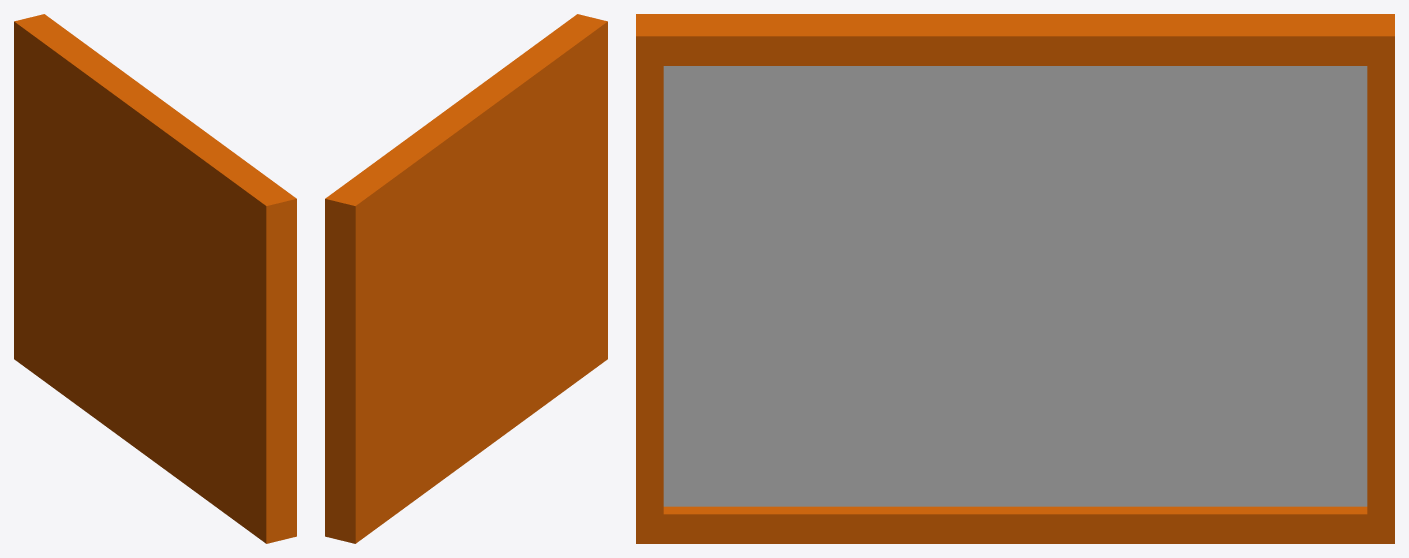
The model's file is quadro_03.obj.
3 views of the same model, side by side, from view 1: azimuth 30°, elevation 25°; view 2: azimuth 150°, elevation 25°; view 3: azimuth 270°, elevation 25° (orthographic). The views are drawn at different scales.
Visible parts, largest first — view 1: Cube.009_Cube.014; view 2: Cube.009_Cube.014; view 3: Cube.009_Cube.014.
Part boxes in pixels (box(x1,y1,x2,y2)): Cube.009_Cube.014: box(14, 14, 296, 543); Cube.009_Cube.014: box(325, 14, 607, 543); Cube.009_Cube.014: box(636, 14, 1394, 543).
Bounding box in the file's own units: 0.1392 × 1.48 × 2.
